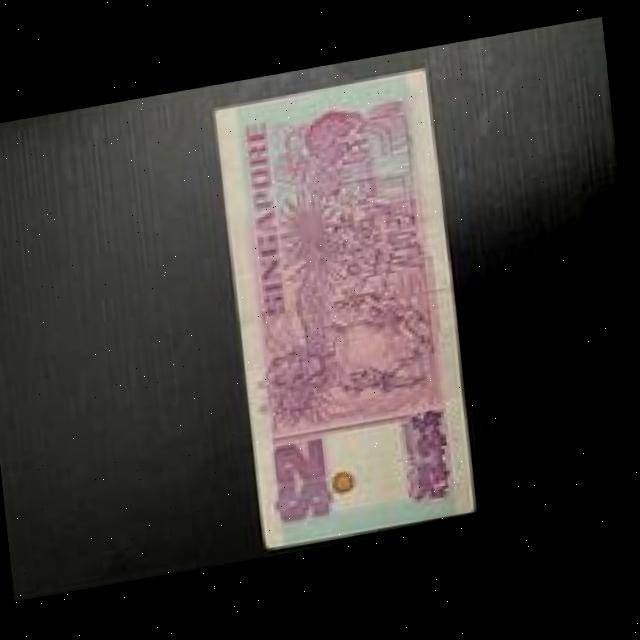banknote: (200, 68, 495, 559), (262, 432, 346, 531)
